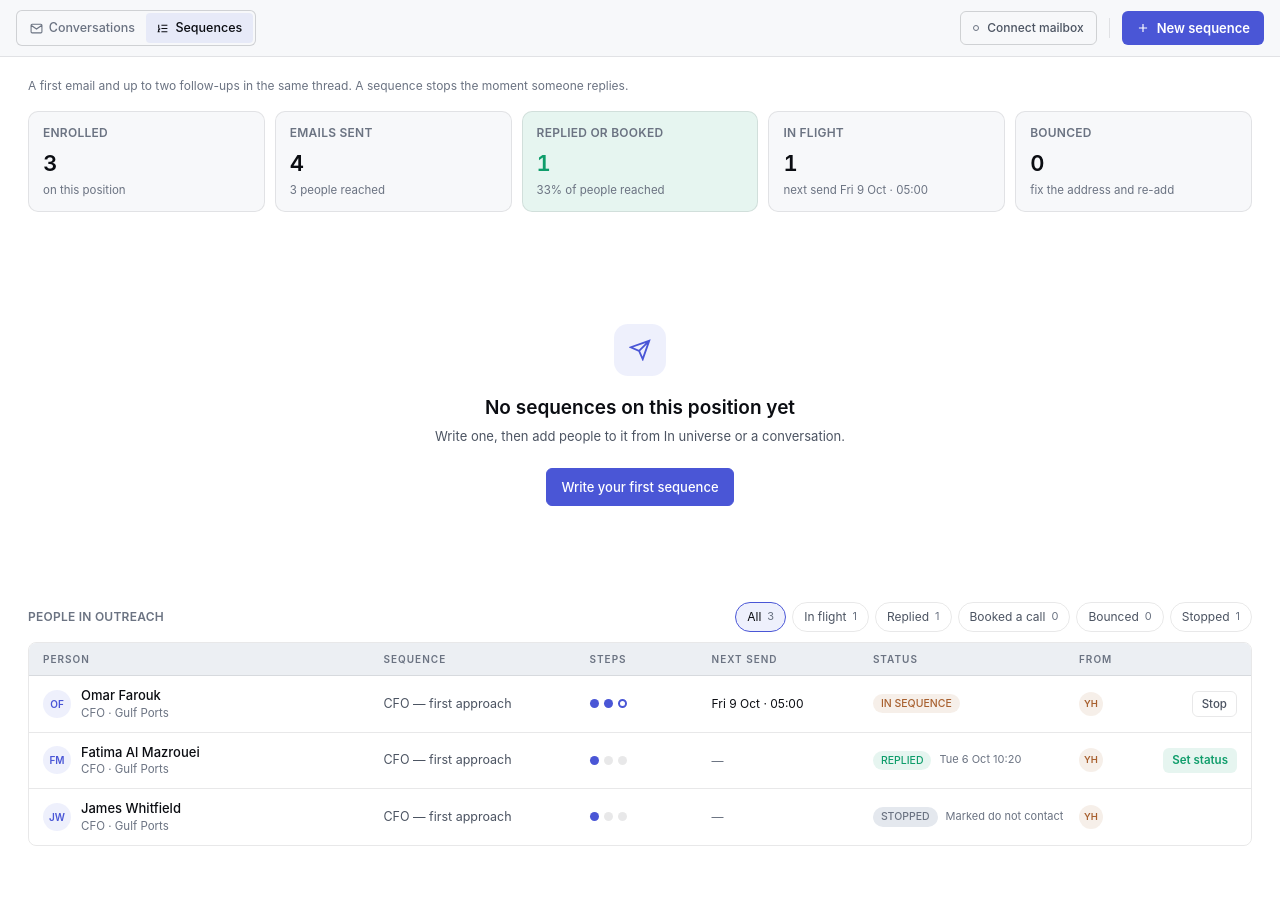
Test: SequencesPage › counts the position's outreach and lists each run, narrowed by the filter chips
expect the text "4" is shown: met, box [290,150,304,176]
expect the text "33% of people reached" is shown: met, box [537,183,665,197]
Step 1. Click the button "Replied 1" → (913,617), box [875,602,952,632]
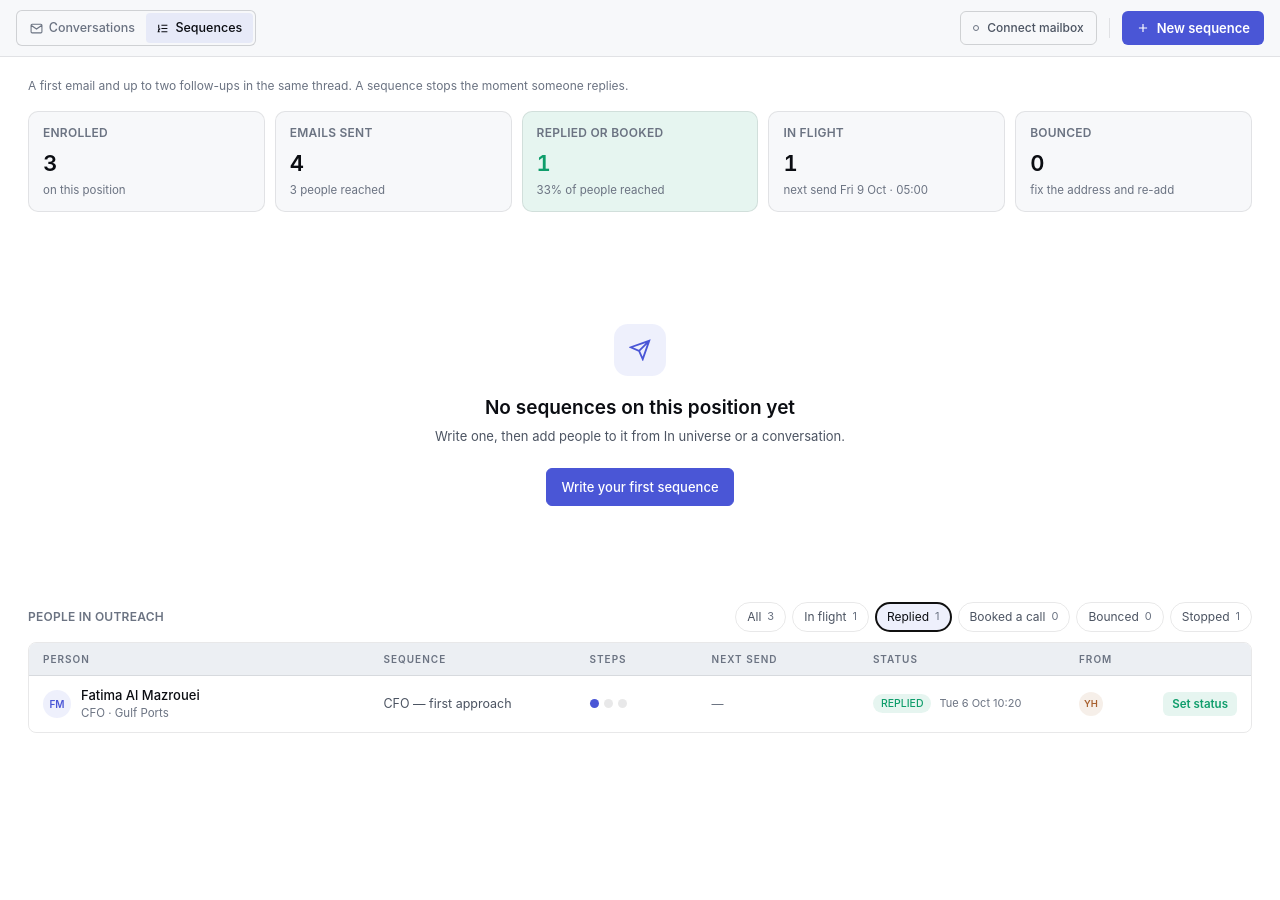
expect the table shows "Fatima Al Mazrouei": met, box [81,686,200,705]
expect the table no longer shows "Omar Farouk": met, box [29,643,1251,732]
